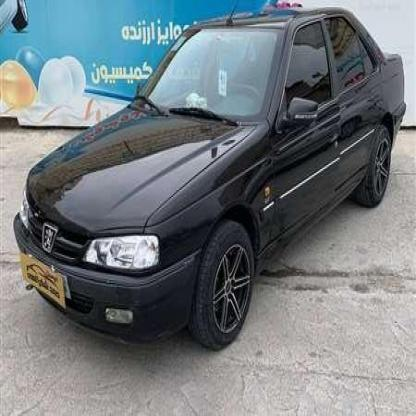Car: (12, 6, 408, 342)
